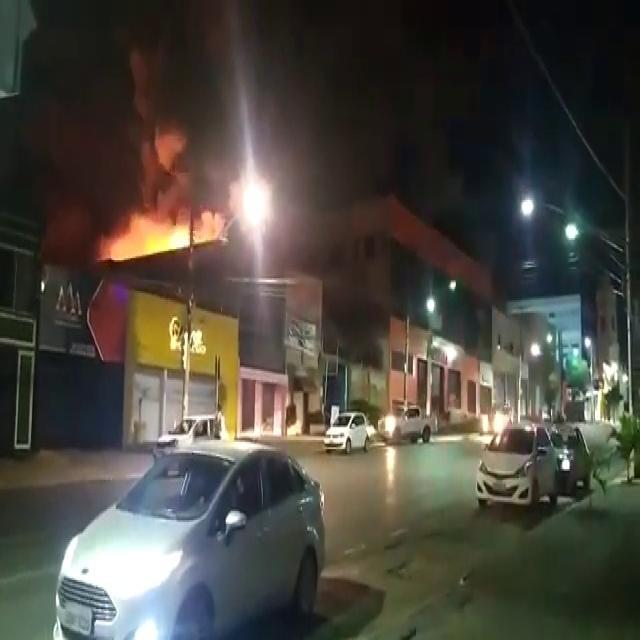Fire: (96, 210, 212, 254)
Smoke: (98, 36, 218, 210)
